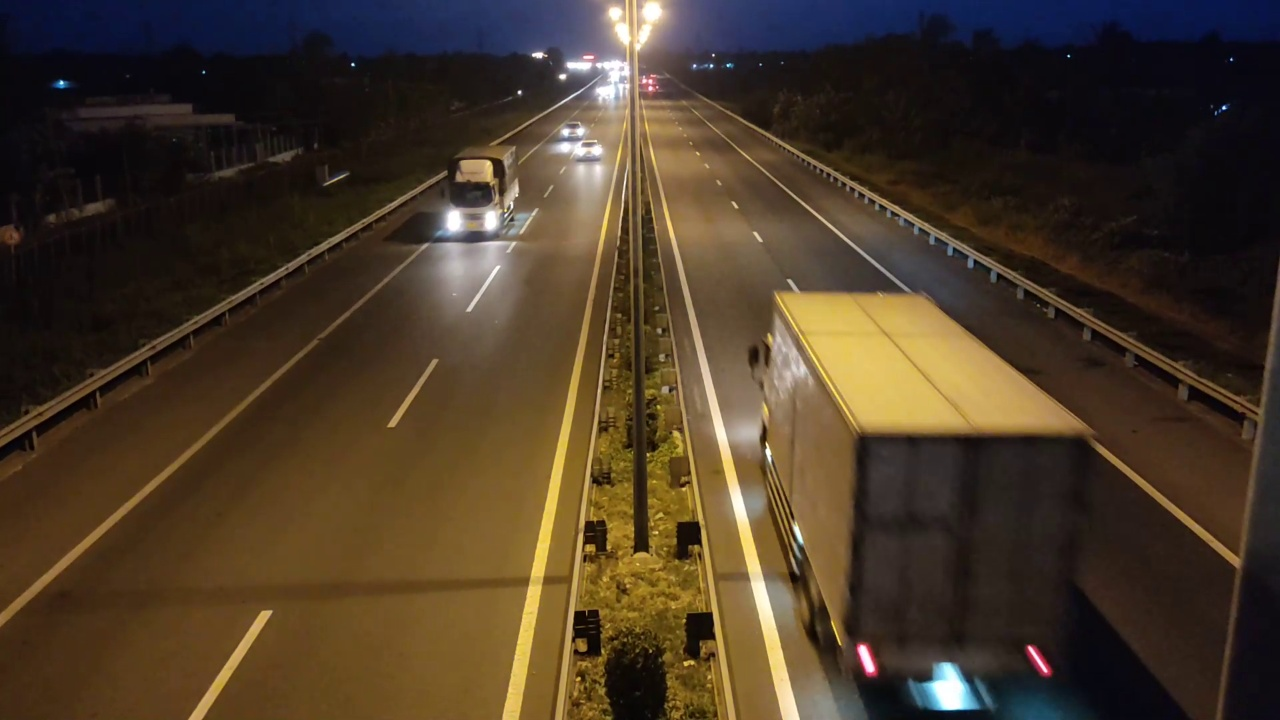car: (571, 139, 604, 162)
truck: (747, 283, 1090, 712), (440, 141, 521, 241)
